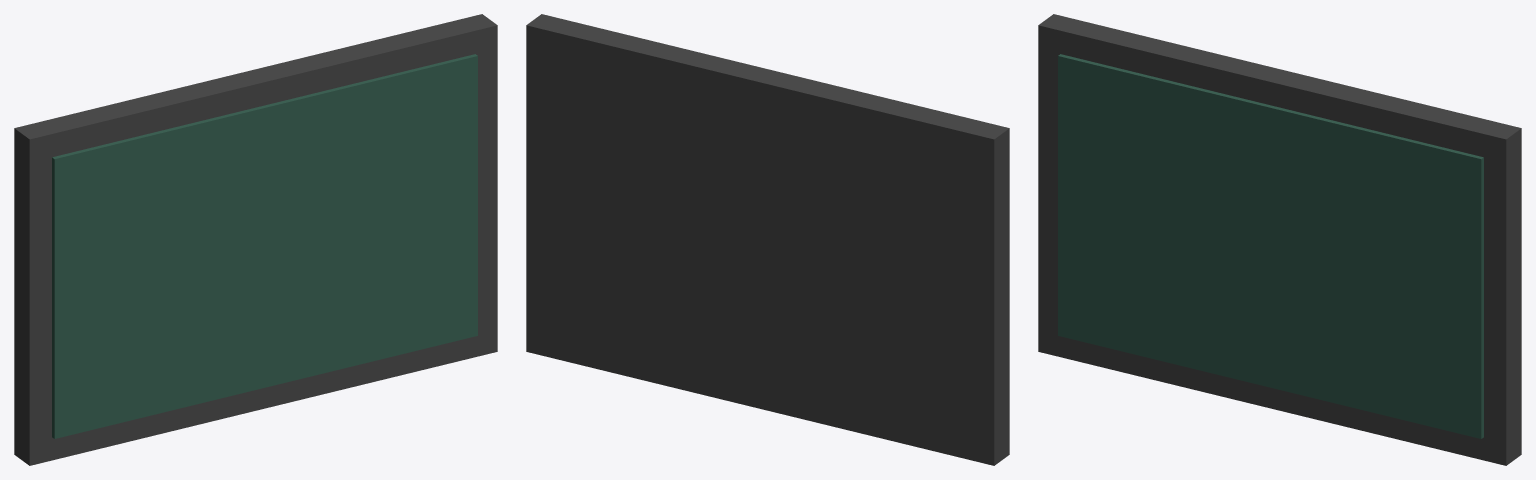
File: display-7in.glb
3 views of the same model, side by side, from view 1: azimuth 30°, elevation 25°; view 2: azimuth 150°, elevation 25°; view 3: azimuth 330°, elevation 25° (orthographic).
Parts seen in each view (by area): view 1: geometry_1, geometry_0; view 2: geometry_0; view 3: geometry_1, geometry_0.
Boxes of the visible parts, x1,y1,x2,y2 form: geometry_1: (52,54,477,438); geometry_0: (14,14,497,465); geometry_0: (526,14,1009,465); geometry_1: (1058,54,1483,438); geometry_0: (1038,14,1521,465).
Size of the model in its own units: 0.21 by 0.14 by 0.014.
